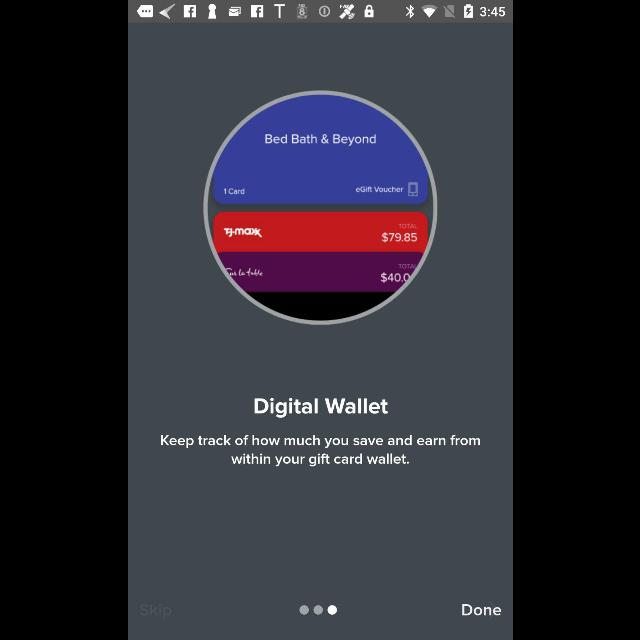image: (202, 90, 438, 326)
pageindicator: (299, 604, 337, 616)
text: (160, 435, 480, 467), (254, 398, 388, 418), (462, 604, 501, 616), (139, 604, 171, 618)
uppertaskbar: (128, 1, 512, 23)
